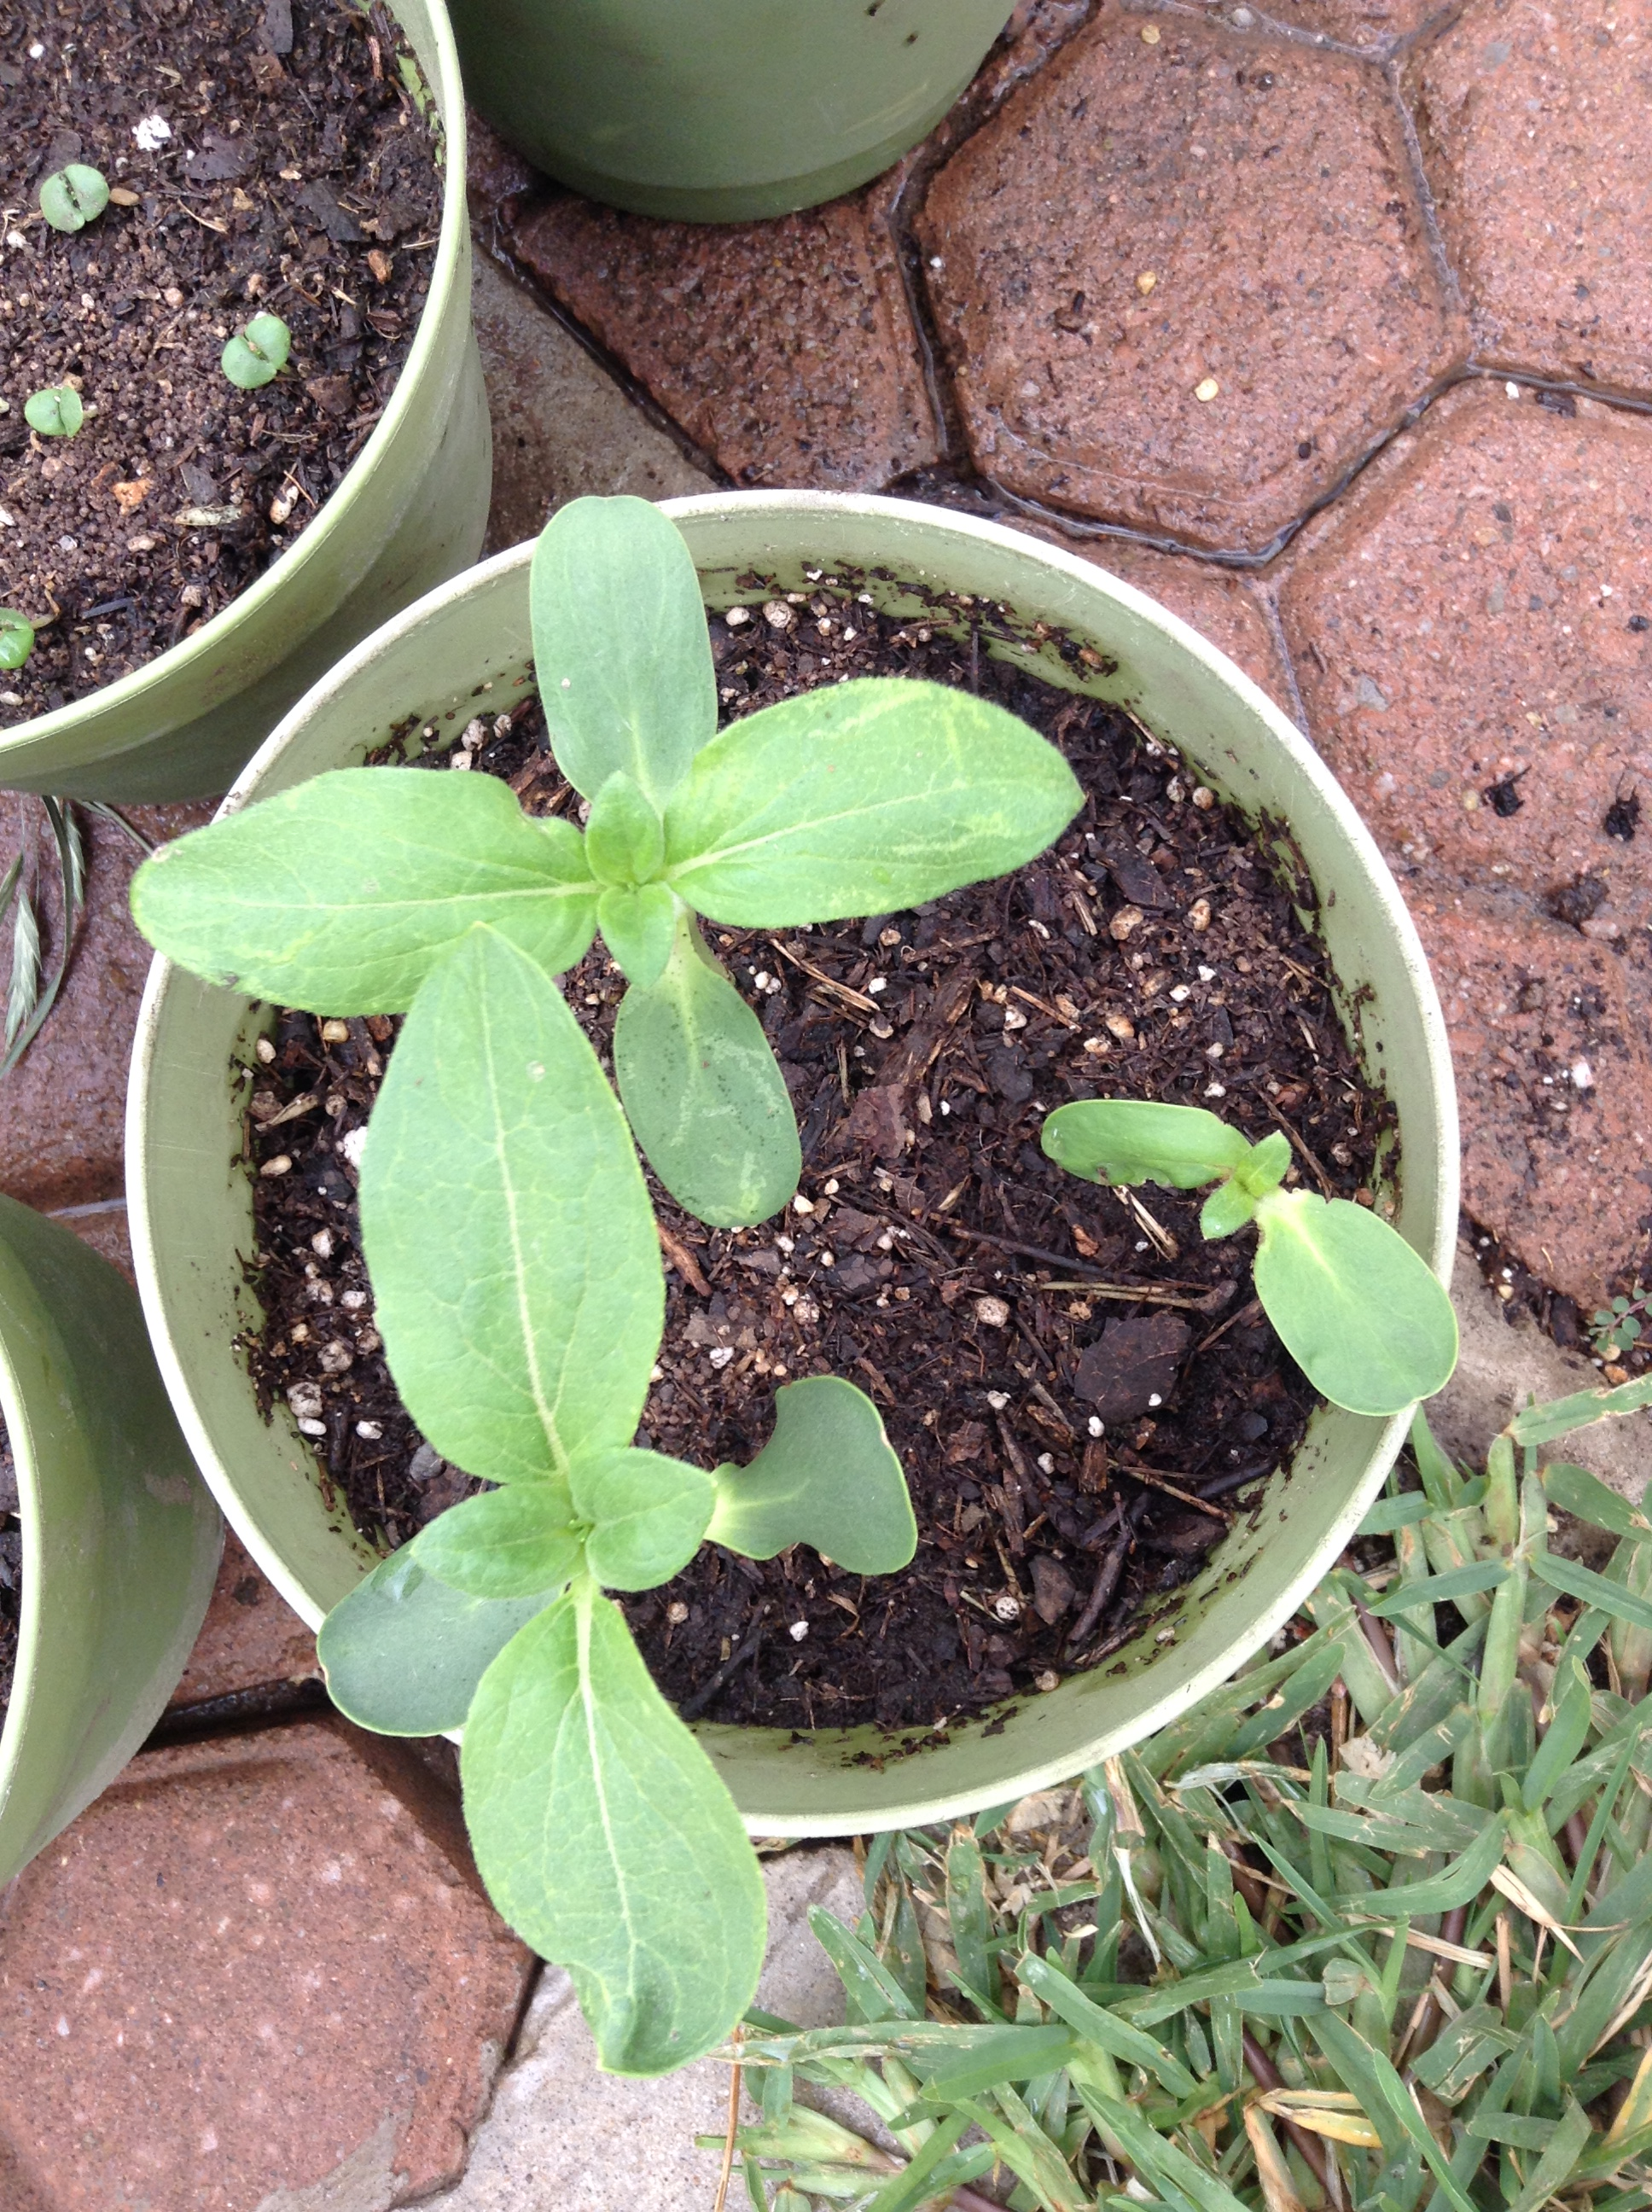girasol5-12dias: (191, 527, 1012, 1181), (321, 984, 805, 2085), (1043, 1057, 1461, 1430)
